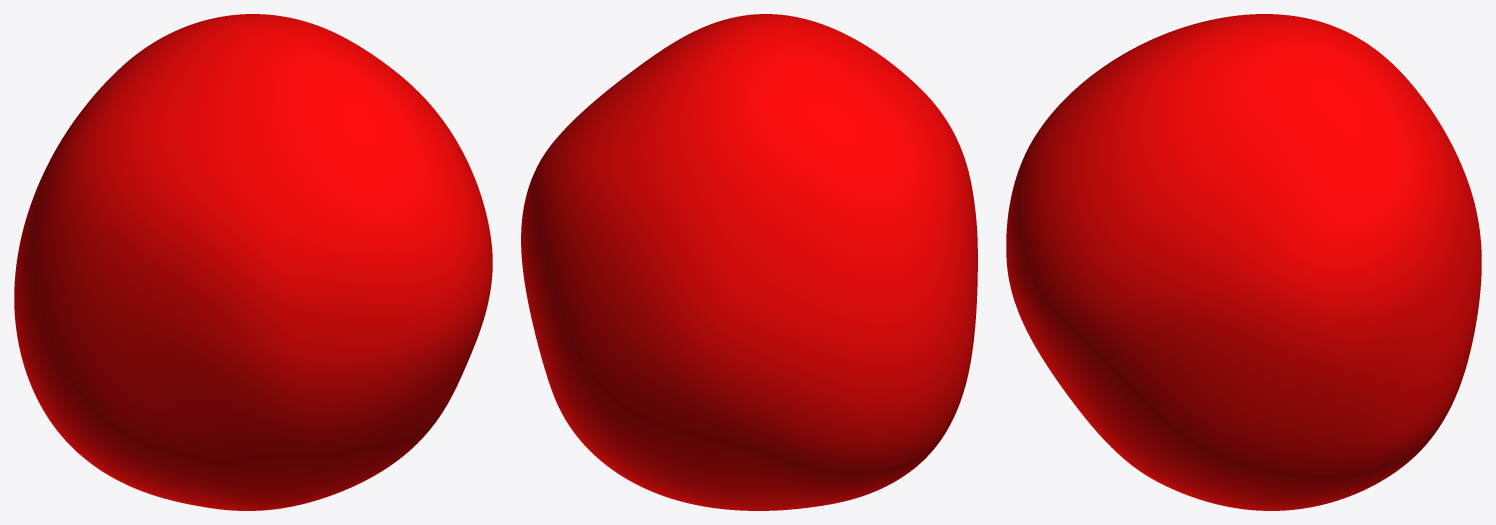
File: LypoglycanC.dae
3 renders of one model, left to right at view 1: azimuth 30°, elevation 25°; view 2: azimuth 150°, elevation 25°; view 3: azimuth 270°, elevation 25°, orthographic.
Parts seen in each view (by area): view 1: Envelope; view 2: Envelope; view 3: Envelope.
Part boxes in pixels (x1,y1,x2,y2): Envelope: (14, 14, 492, 510); Envelope: (521, 14, 977, 510); Envelope: (1006, 14, 1481, 510).
Bounding box in the file's own units: 4384 × 4627 × 4377.
